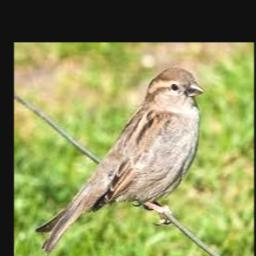Sparrow: (36, 68, 204, 252)
